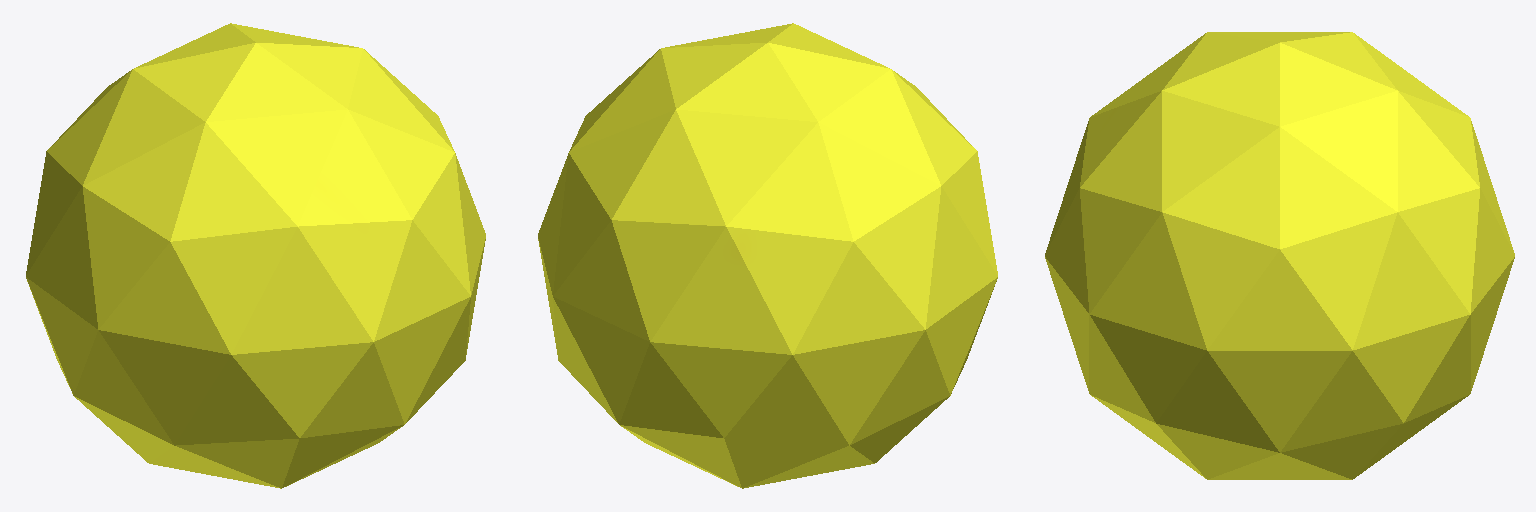
3 renders of one model, left to right at view 1: azimuth 30°, elevation 25°; view 2: azimuth 150°, elevation 25°; view 3: azimuth 270°, elevation 25°, orthographic.
Visible parts, largest first — view 1: Icosphere; view 2: Icosphere; view 3: Icosphere.
Part boxes in pixels (left/top/right/bottom): Icosphere: left=26, top=23, right=485, bottom=488; Icosphere: left=538, top=23, right=997, bottom=488; Icosphere: left=1045, top=32, right=1514, bottom=479.
Size of the model in its own units: 10.31 by 10.84 by 10.84.
Materials: 1 (1 with a texture image).